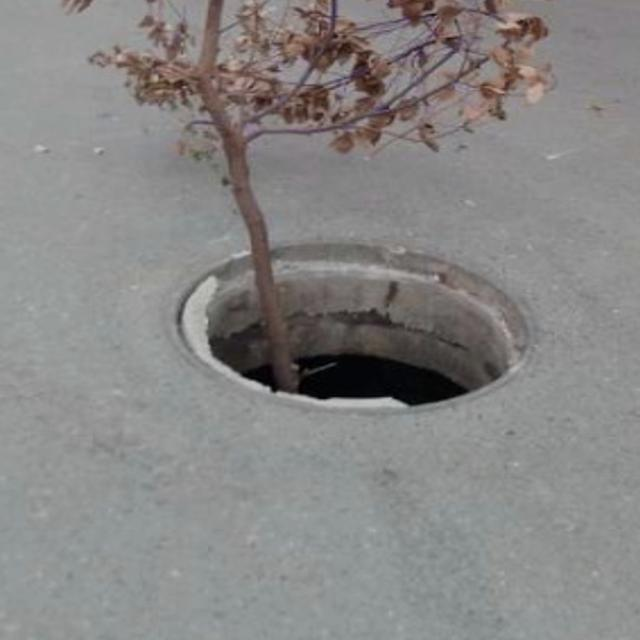lose: (179, 242, 537, 415)
